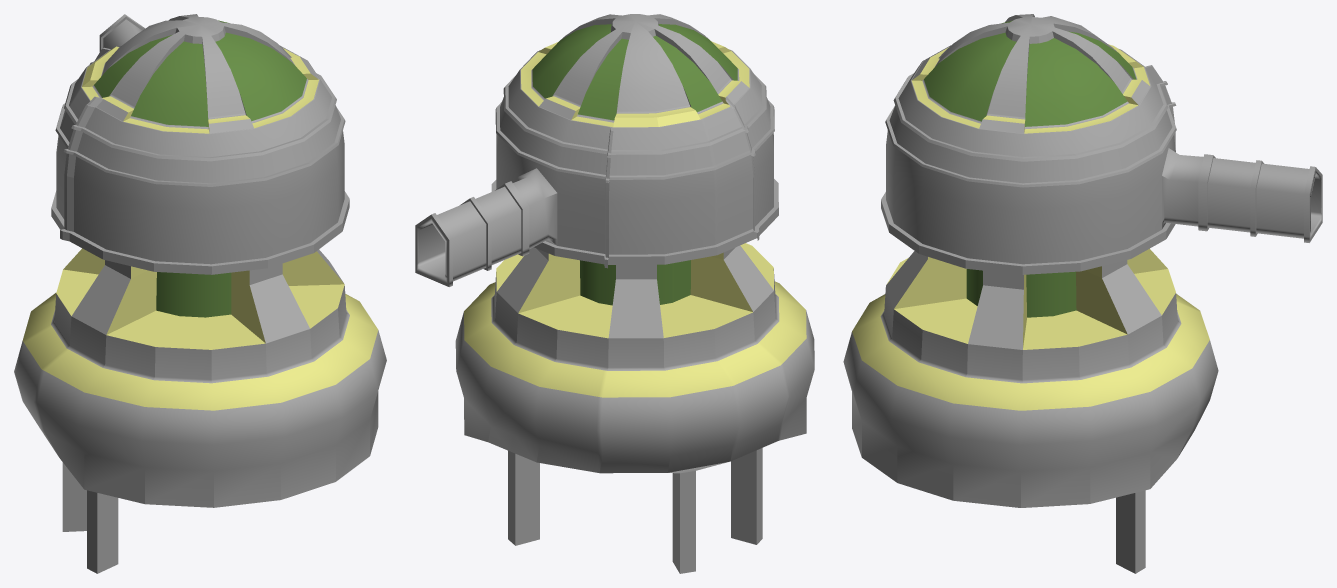
The model's file is Building_2.fbx.
The picture shows the model from 3 angles, left to right: view 1: azimuth 30°, elevation 25°; view 2: azimuth 150°, elevation 25°; view 3: azimuth 270°, elevation 25°; orthographic projection. The views are drawn at different scales.
Parts seen in each view (by area): view 1: Building_2; view 2: Building_2; view 3: Building_2.
Boxes of the visible parts, box(x1,y1,x2,y2) form: Building_2: box(14, 14, 386, 573); Building_2: box(415, 14, 814, 573); Building_2: box(843, 14, 1322, 573).
Size of the model in its own units: 14.26 by 21.54 by 18.29.
